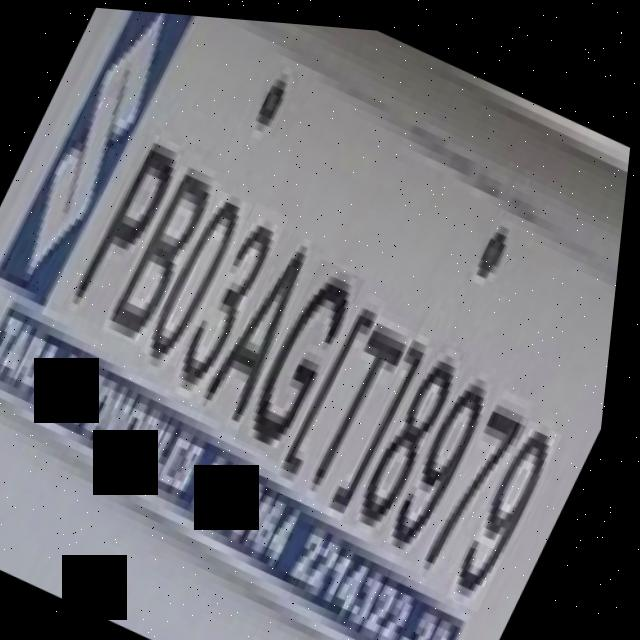0: (146, 181, 260, 369)
3: (172, 193, 294, 409)
7: (423, 373, 544, 583)
8: (359, 327, 477, 534)
9: (390, 353, 508, 559), (457, 407, 571, 608)
A: (202, 221, 331, 435)
B: (107, 158, 227, 349)
G: (241, 249, 372, 462)
P: (67, 126, 190, 329)
T: (303, 303, 424, 505)
